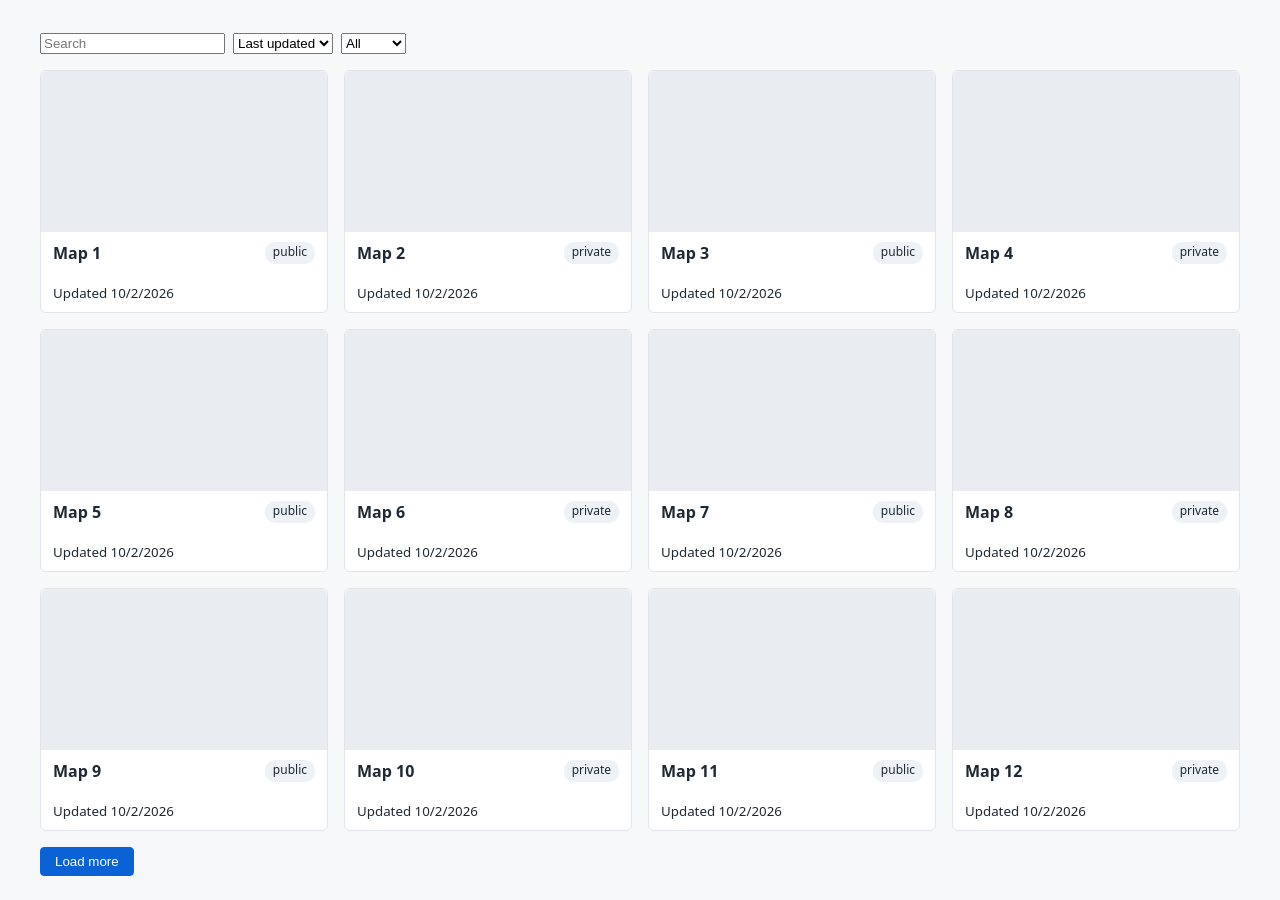
Test: MapsPage › lists maps and loads more pages
(page scrolled)
Expected: the text "Map 1" is shown, [53,242,101,264]
Step 1. Click the button "Load more" → click(87, 861), box [40,846,134,876]
(page scrolled)
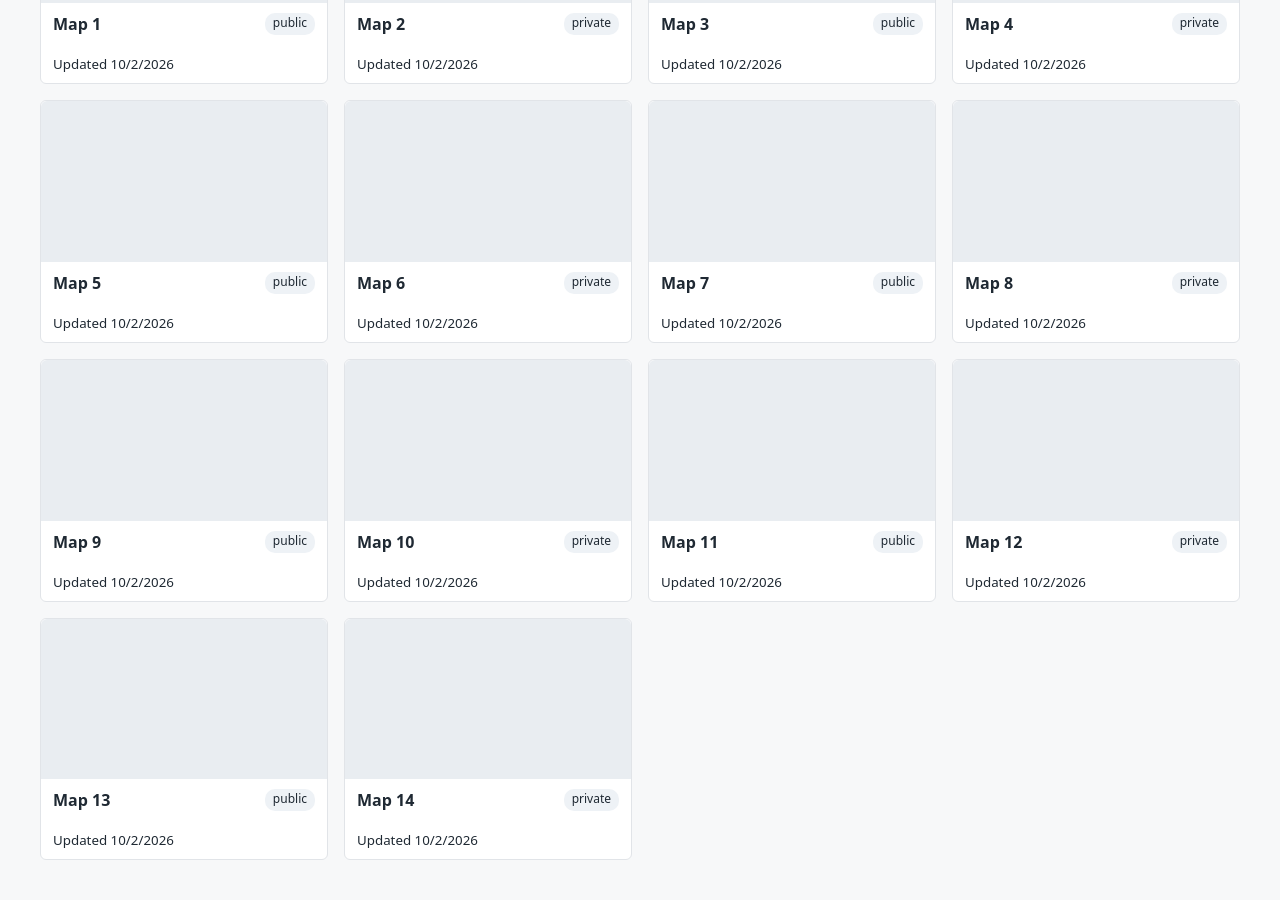
Expected: the text "Map 14" is shown, [357,789,414,811]
Expected: the number of list items is 14
Expected: the button "Load more" is gone
